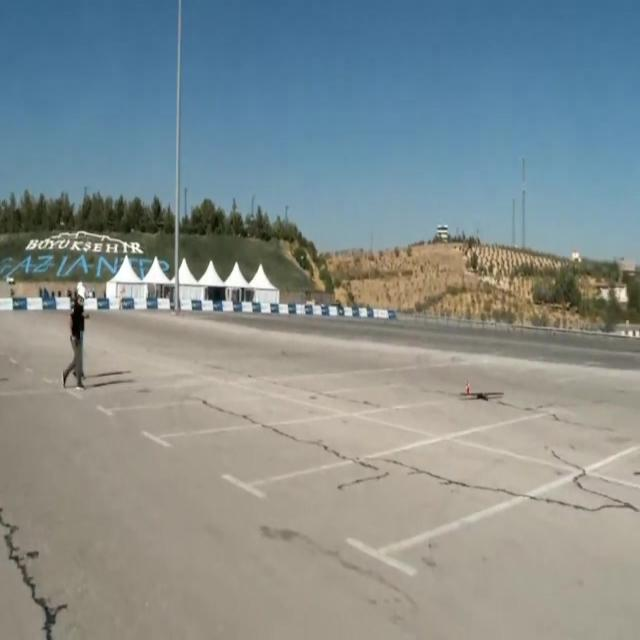iha: (460, 374, 504, 395)
